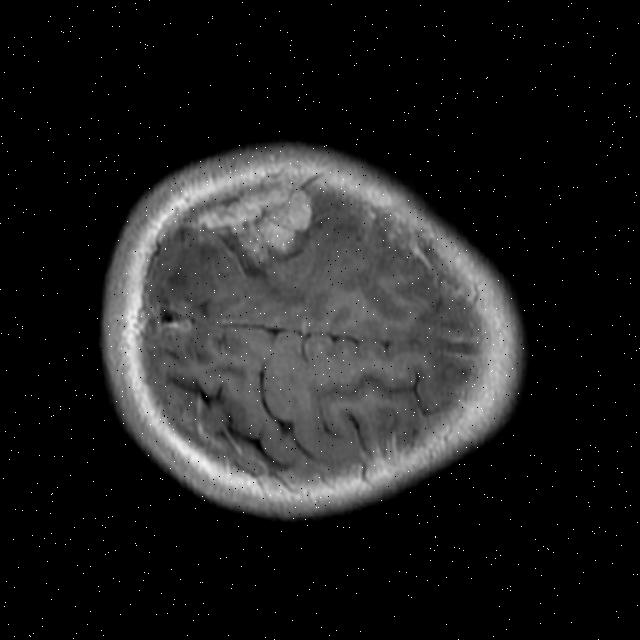Meningioma: (179, 169, 324, 288)
